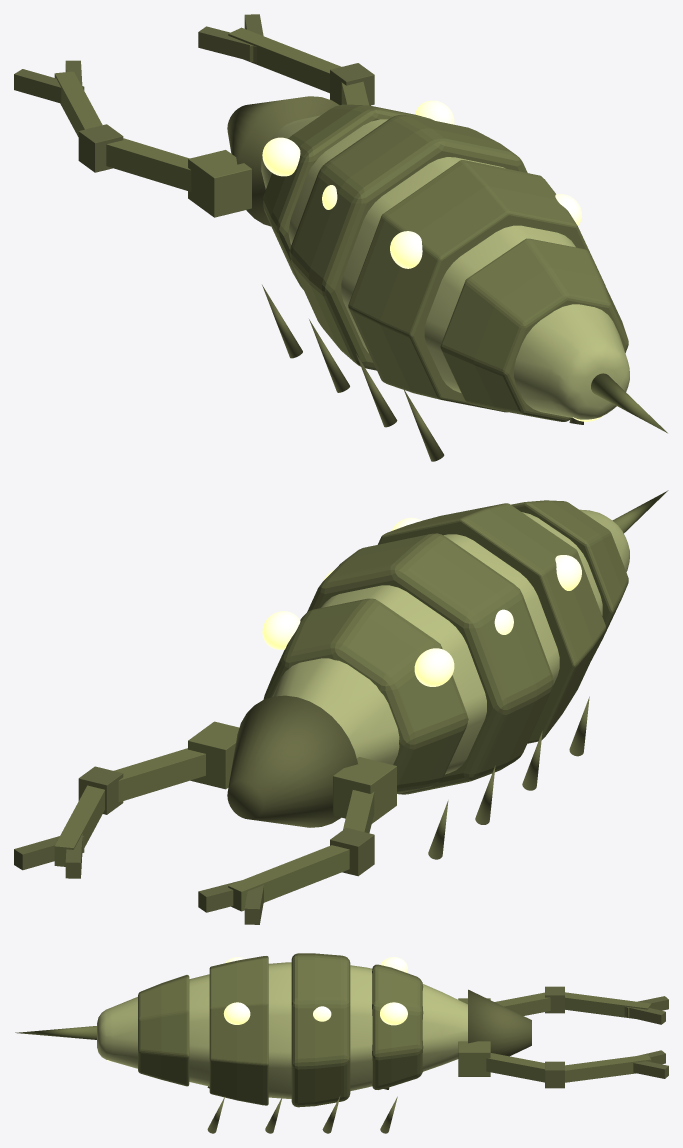
Rendered from krithul-harvester.glb.
The picture shows the model from 3 angles, top to bottom: view 1: azimuth 30°, elevation 25°; view 2: azimuth 150°, elevation 25°; view 3: azimuth 270°, elevation 25°; orthographic projection. The views are drawn at different scales.
Visible parts, largest first — view 1: hull.003, hull, hull.002, hull.004, hull.001, Cone, Cube, Cube.001, Cube.009, Cube.003, Cube.002, Cone.009 (+9 smaller); view 2: hull.002, hull, hull.001, Cone, hull.003, hull.004, Cube.003, Cube.007, Cube, Cube.006, Cube.009, Cube.002 (+8 smaller); view 3: hull, hull.002, hull.003, hull.001, hull.004, Cone, Cube.009, Cube.003, Cube.007, Cube.006, Cube.001, Cone.009 (+7 smaller).
Boxes of the visible parts, x1,y1,x2,y2 form: hull.003: (348, 160, 605, 412); hull: (261, 115, 629, 419); hull.002: (289, 115, 527, 370); hull.004: (440, 238, 628, 421); hull.001: (263, 104, 433, 289); Cone: (227, 96, 339, 226); Cube: (188, 150, 251, 217); Cube.001: (106, 138, 191, 191); Cube.009: (228, 27, 341, 93); Cube.003: (54, 71, 102, 136); Cube.002: (78, 124, 123, 172); Cone.009: (591, 373, 667, 433); hull.002: (307, 533, 553, 794); hull: (272, 509, 629, 774); hull.001: (263, 598, 468, 793); Cone: (227, 695, 357, 827); hull.003: (378, 503, 605, 743); hull.004: (511, 500, 628, 658); Cube.003: (228, 845, 349, 911); Cube.007: (114, 748, 205, 802); Cube: (333, 757, 396, 823); Cube.006: (188, 721, 239, 789); Cube.009: (54, 785, 104, 866); Cube.002: (330, 828, 374, 876); hull: (97, 962, 467, 1098); hull.002: (291, 953, 350, 1107); hull.003: (209, 956, 268, 1105); hull.001: (372, 964, 423, 1089); hull.004: (138, 975, 189, 1086); Cone: (468, 989, 531, 1056); Cube.009: (565, 1054, 651, 1082); Cube.003: (565, 992, 651, 1018); Cube.007: (486, 1053, 544, 1082); Cube.006: (458, 1041, 490, 1076); Cube.001: (495, 992, 550, 1015); Cone.009: (15, 1026, 96, 1039).
Bounding box in the file's own units: 1.55 × 1.33 × 5.12.
